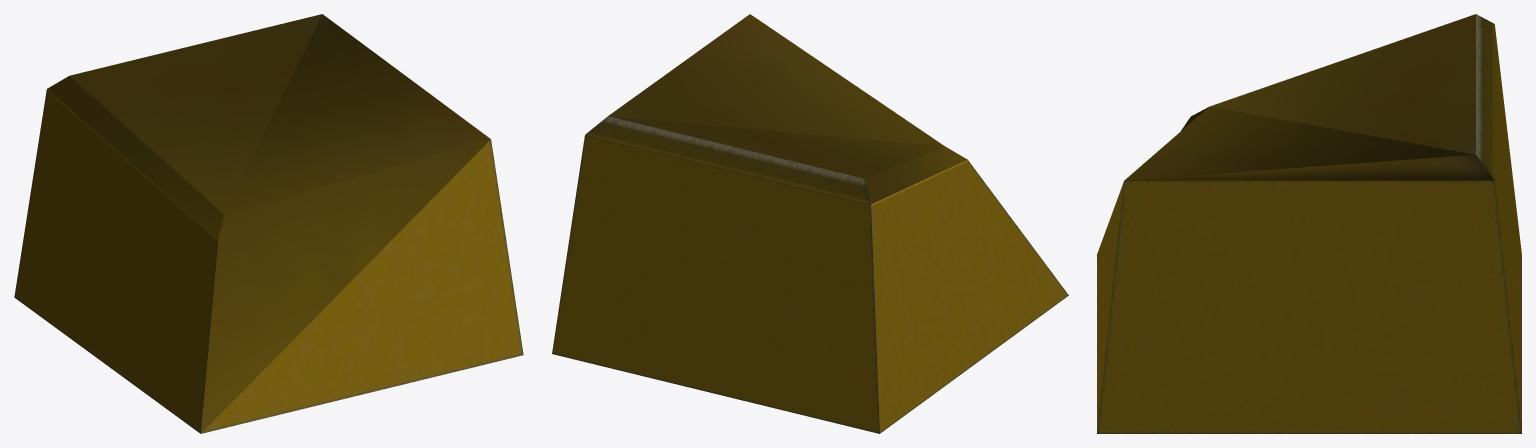
Rendered from manualgun_base_broken.obj.
The picture shows the model from 3 angles, left to right: view 1: azimuth 30°, elevation 25°; view 2: azimuth 150°, elevation 25°; view 3: azimuth 270°, elevation 25°; orthographic projection. The views are drawn at different scales.
Visible parts, largest first — view 1: Object002; view 2: Object002; view 3: Object002.
Part boxes in pixels (x1,y1,x2,y2): Object002: [14, 14, 523, 433]; Object002: [552, 14, 1068, 433]; Object002: [1097, 14, 1521, 433].
Size of the model in its own units: 13.1 by 8.84 by 13.1.
1 material, 1 textured.
